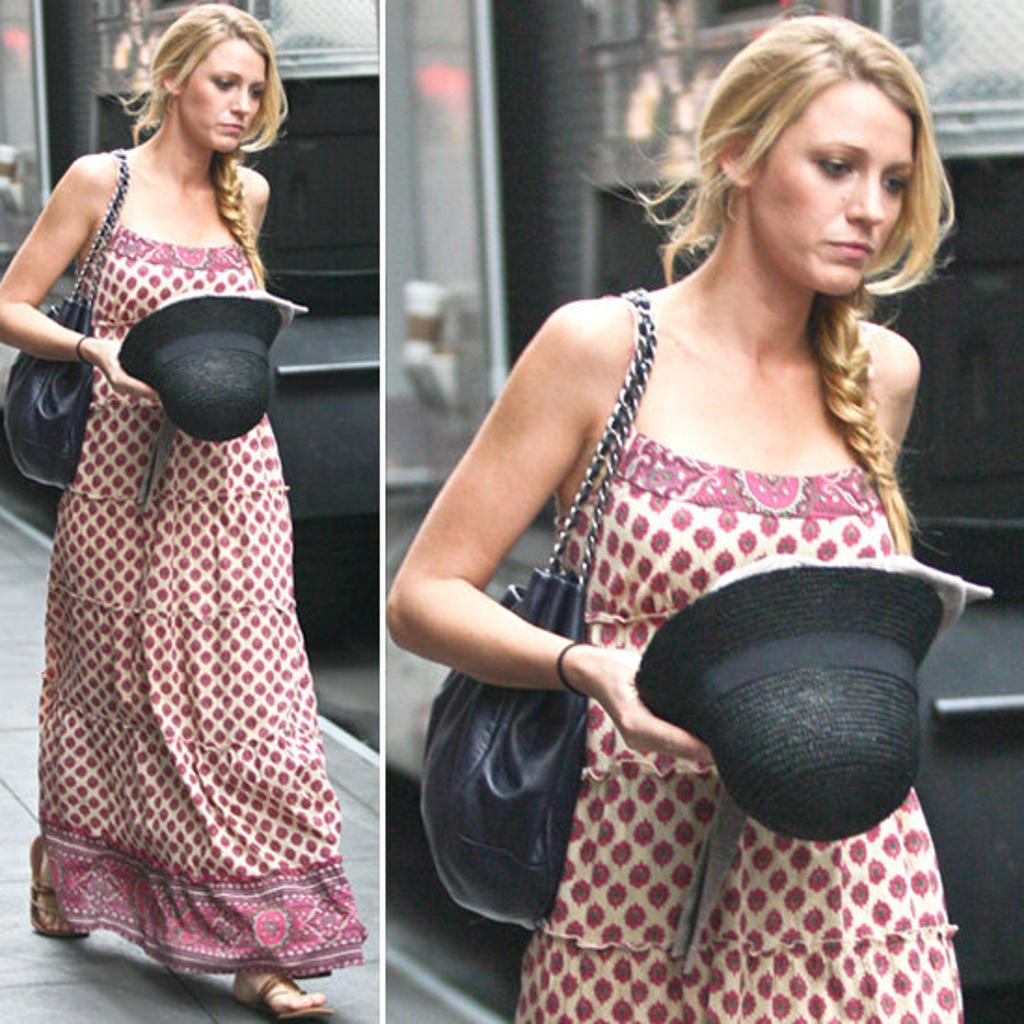face: (754, 72, 914, 298), (182, 40, 266, 154)
